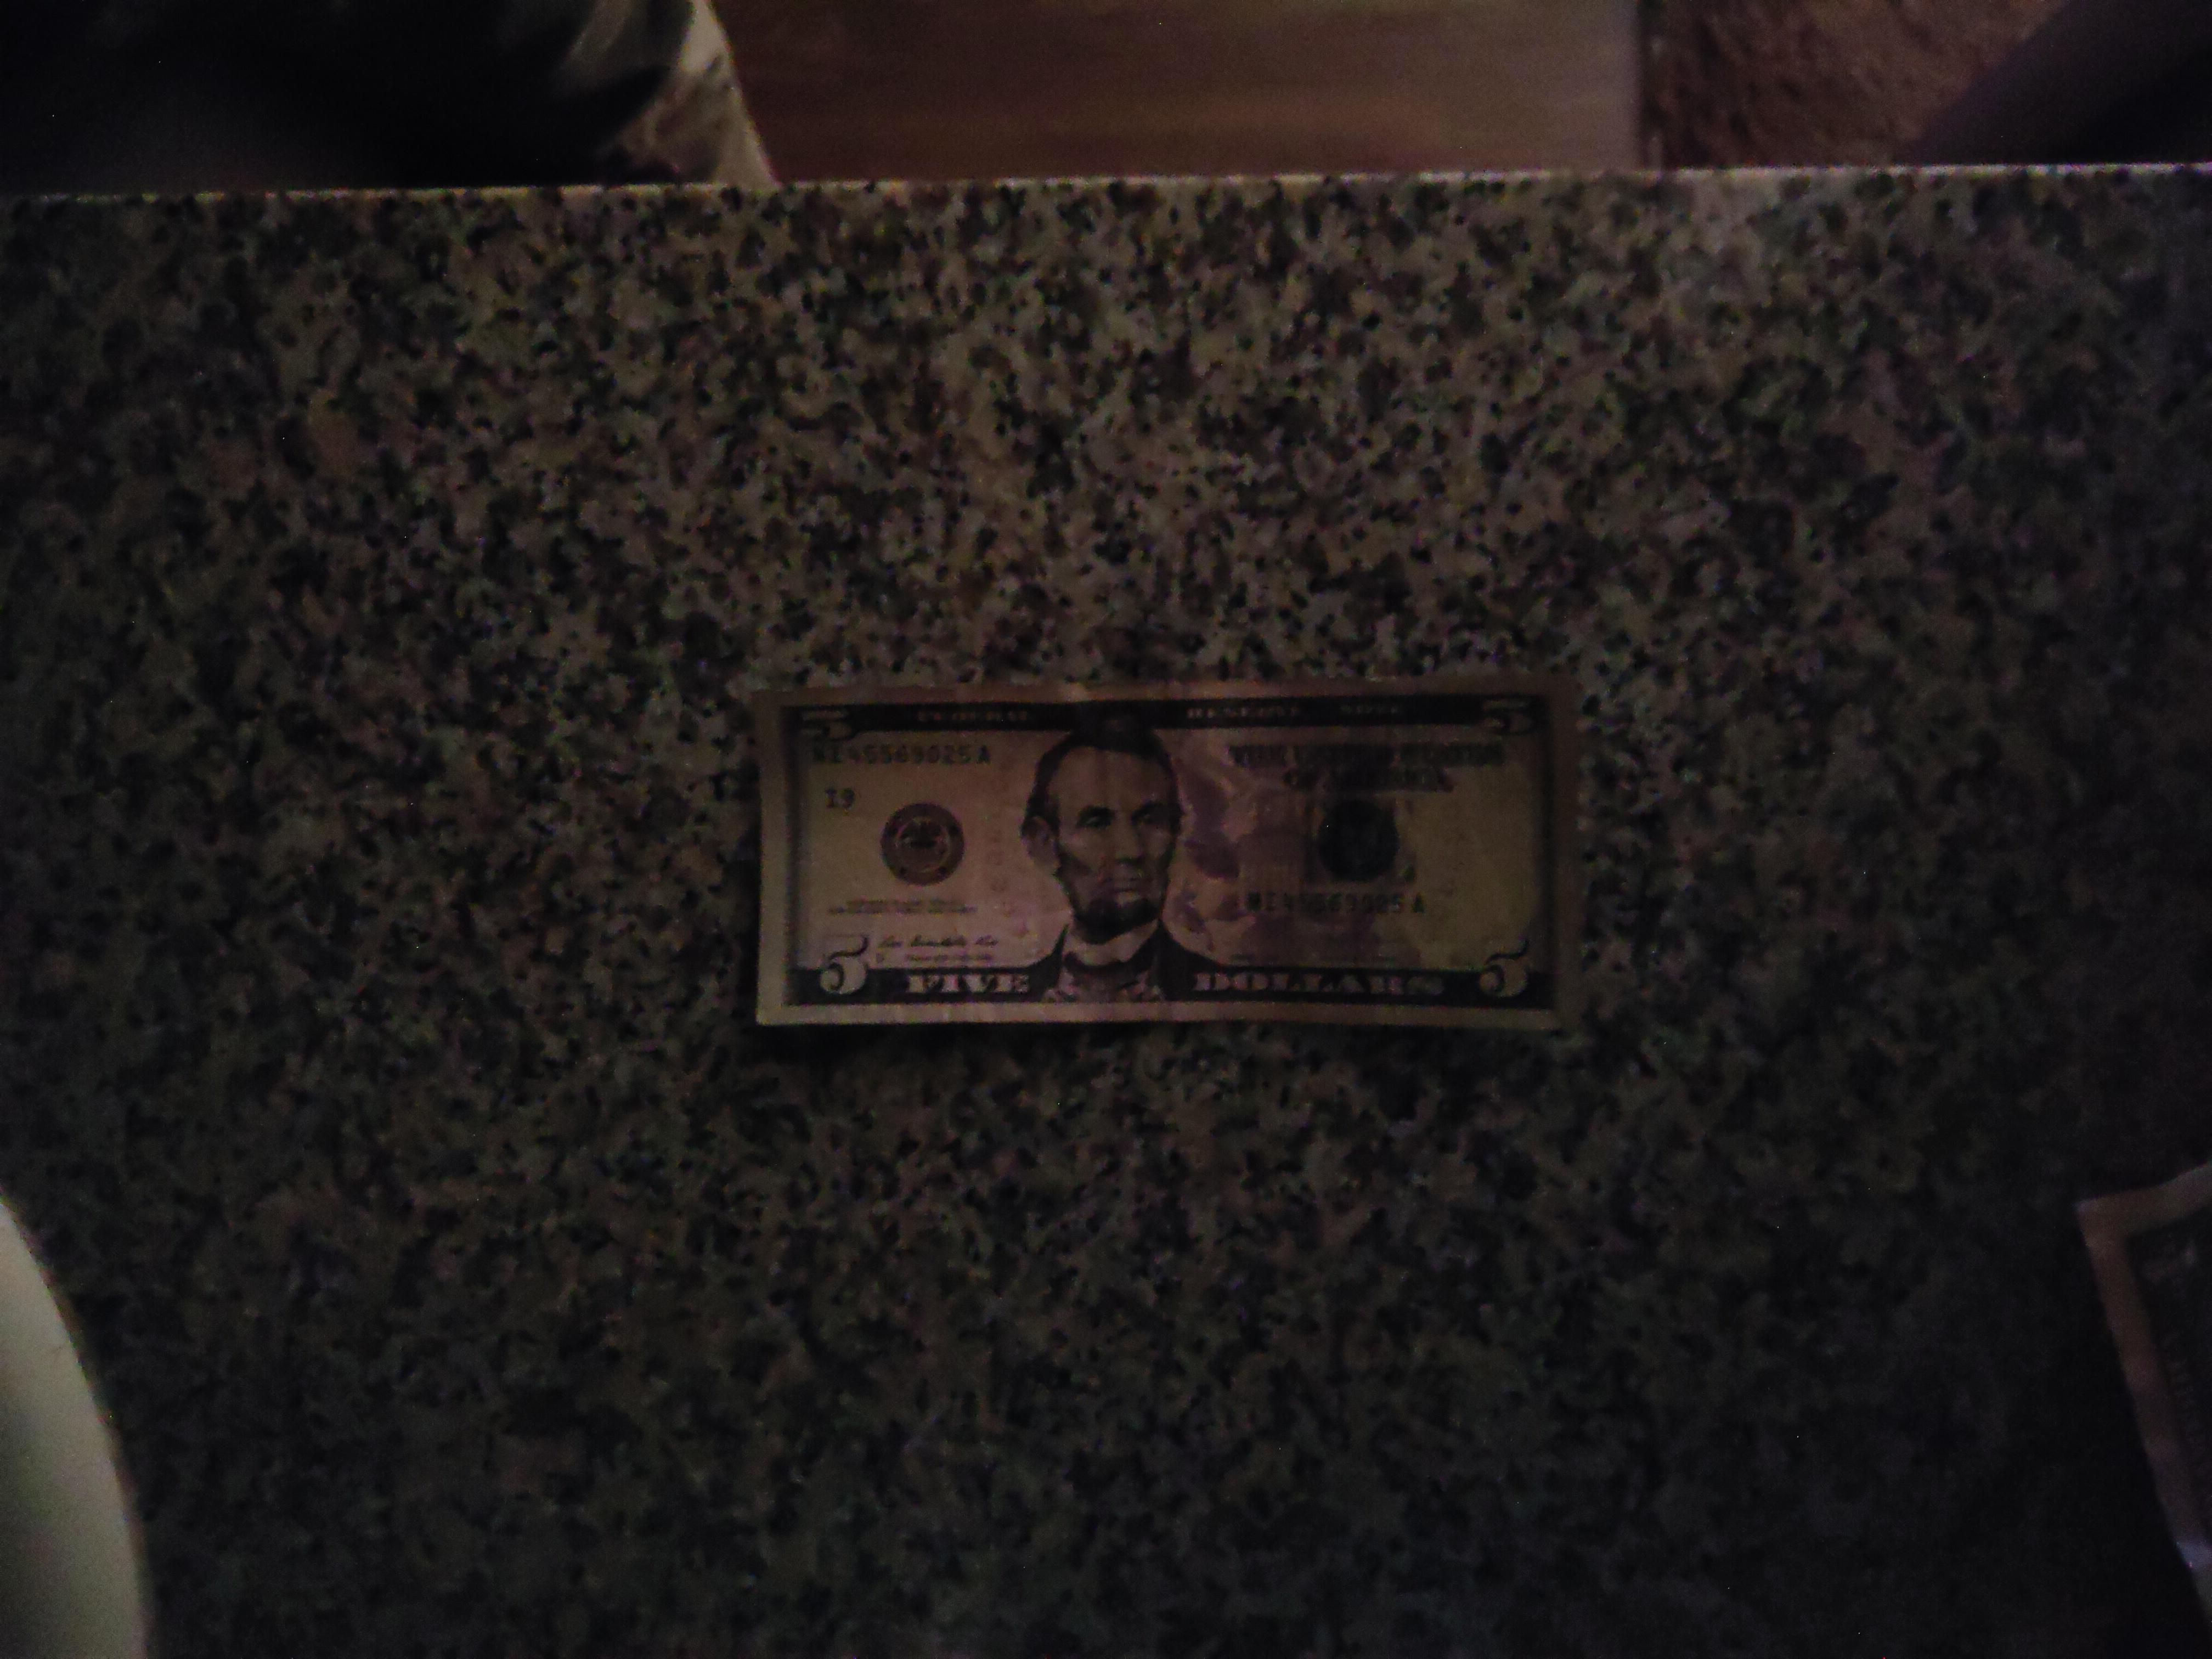FiveBill: (751, 674, 1588, 1032)
